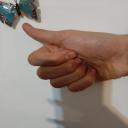ThumbsUp: (21, 22, 125, 100)
